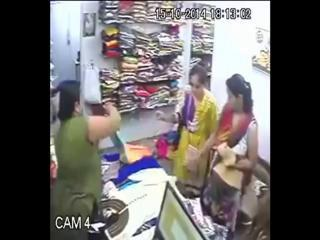Normal: (50, 80, 121, 240), (202, 74, 260, 238), (170, 66, 220, 188)
